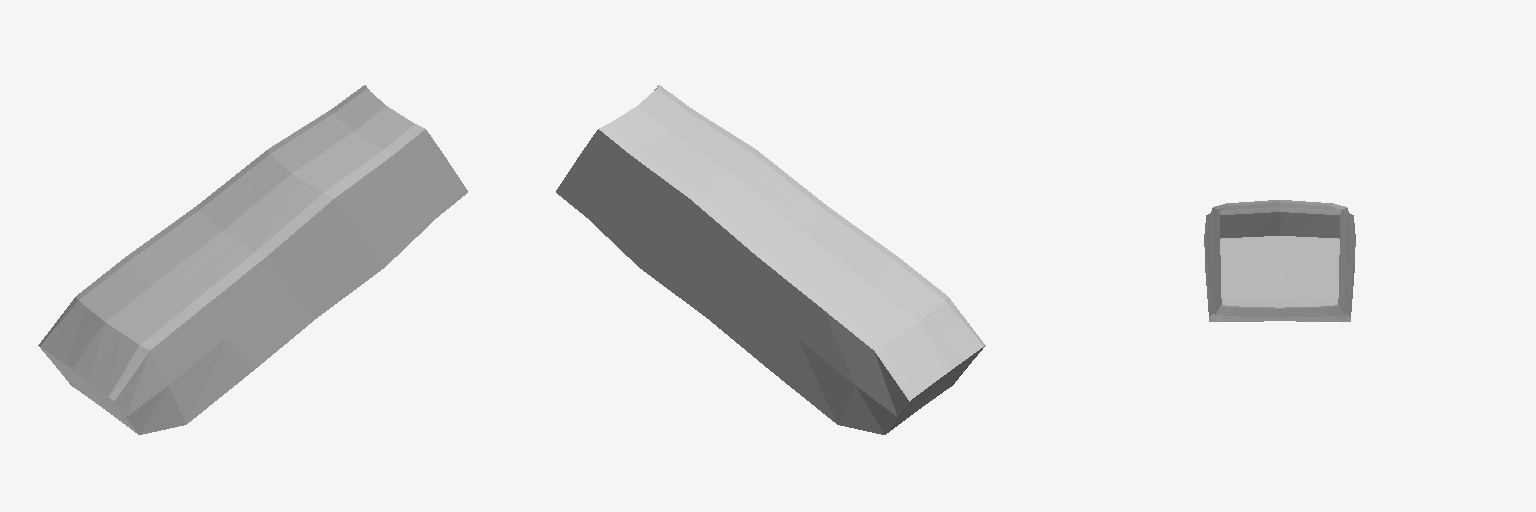
Rendered from Bird_Tail.obj.
The picture shows the model from 3 angles: view 1: azimuth 30°, elevation 25°; view 2: azimuth 150°, elevation 25°; view 3: azimuth 270°, elevation 25°; orthographic projection.
Visible parts, largest first — view 1: Bird_Tail; view 2: Bird_Tail; view 3: Bird_Tail.
Part boxes in pixels (left/top/right/bottom): Bird_Tail: left=38, top=85, right=467, bottom=434; Bird_Tail: left=556, top=85, right=985, bottom=434; Bird_Tail: left=1204, top=200, right=1355, bottom=321.
Size of the model in its own units: 3.32 by 2.04 by 1.2.